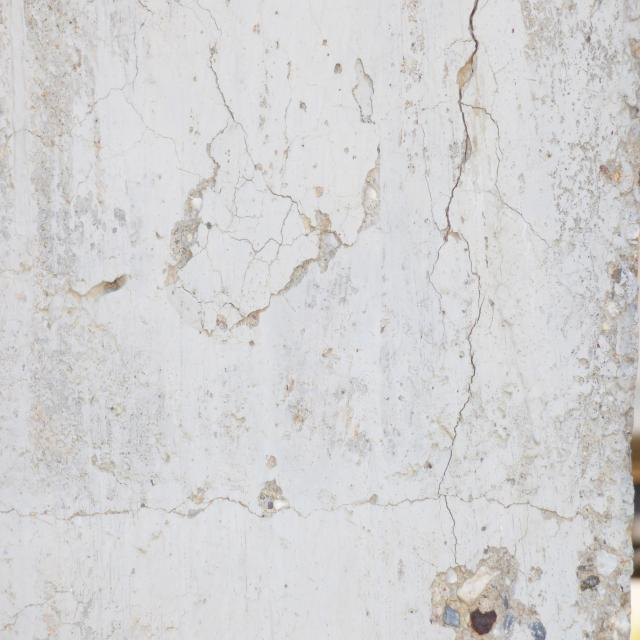corrosion: (453, 588, 516, 640)
